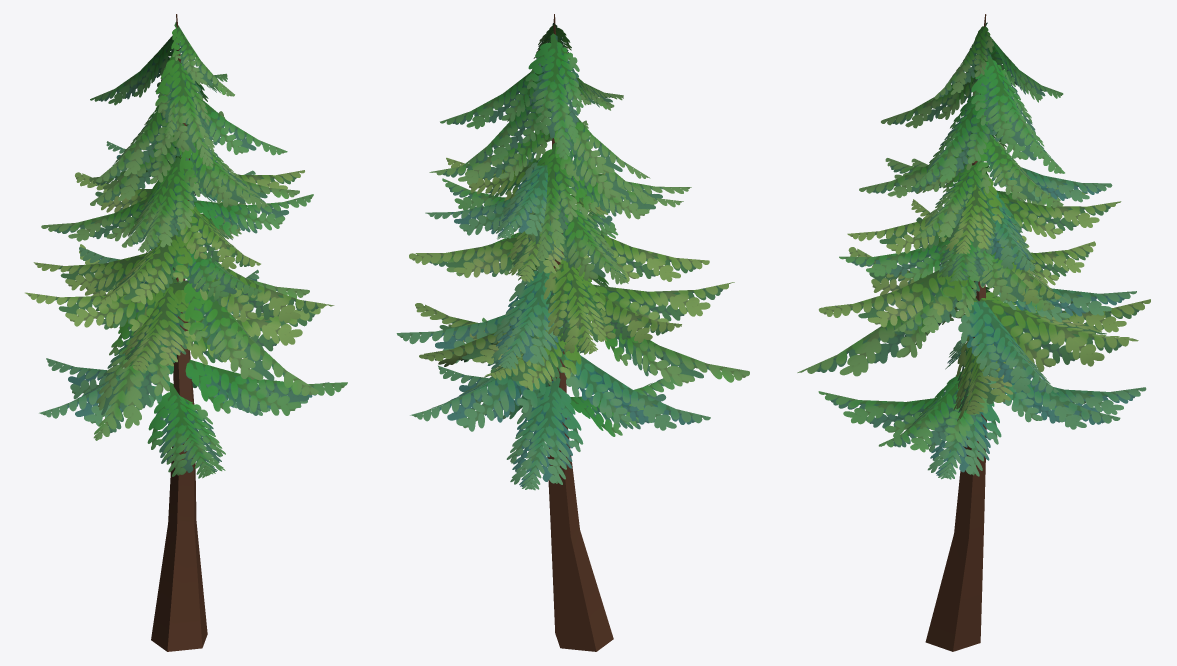
The model's file is pineTree1.fbx.
3 renders of one model, left to right at view 1: azimuth 30°, elevation 25°; view 2: azimuth 150°, elevation 25°; view 3: azimuth 270°, elevation 25°, orthographic. The views are drawn at different scales.
Visible parts, largest first — view 1: pineTree1; view 2: pineTree1; view 3: pineTree1.
Part boxes in pixels (box(x1,y1,x2,y2)): pineTree1: box(25, 14, 347, 651); pineTree1: box(396, 14, 749, 651); pineTree1: box(797, 14, 1150, 651).
Size of the model in its own units: 2.35 by 4.49 by 2.42.
